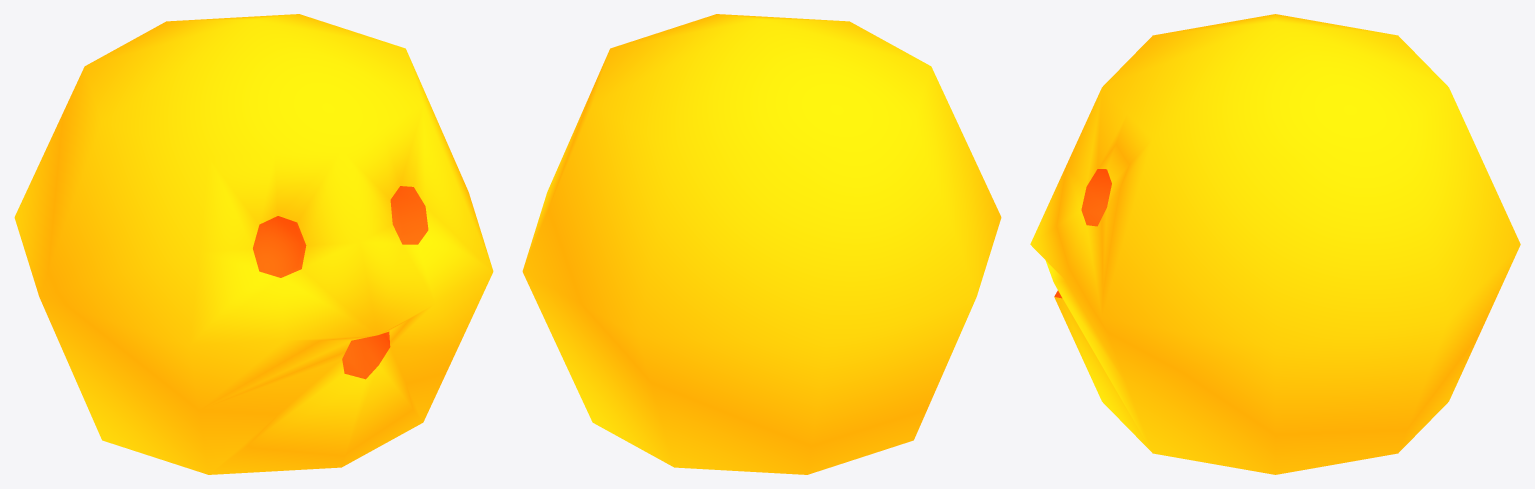
File: BolaPerforanteNeon.fbx
3 views of the same model, side by side, from view 1: azimuth 30°, elevation 25°; view 2: azimuth 150°, elevation 25°; view 3: azimuth 270°, elevation 25° (orthographic).
Visible parts, largest first — view 1: Sphere; view 2: Sphere; view 3: Sphere.
Part boxes in pixels (box(x1,y1,x2,y2)): Sphere: box(14, 14, 493, 474); Sphere: box(522, 14, 1001, 474); Sphere: box(1030, 14, 1520, 474).
Size of the model in its own units: 70 by 70 by 70.
